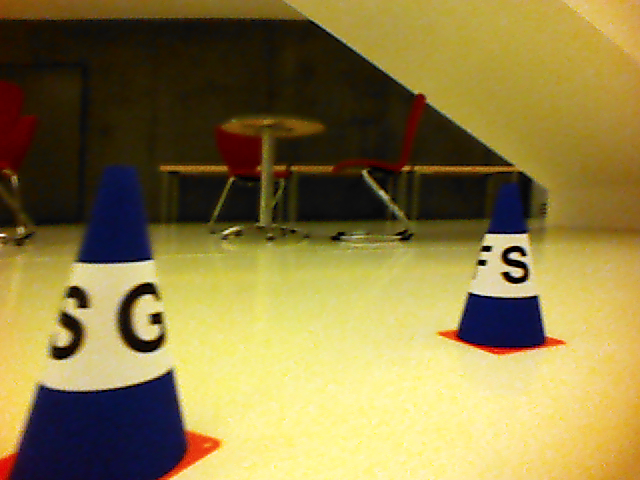bluecone: (11, 164, 186, 480), (456, 181, 548, 349)
